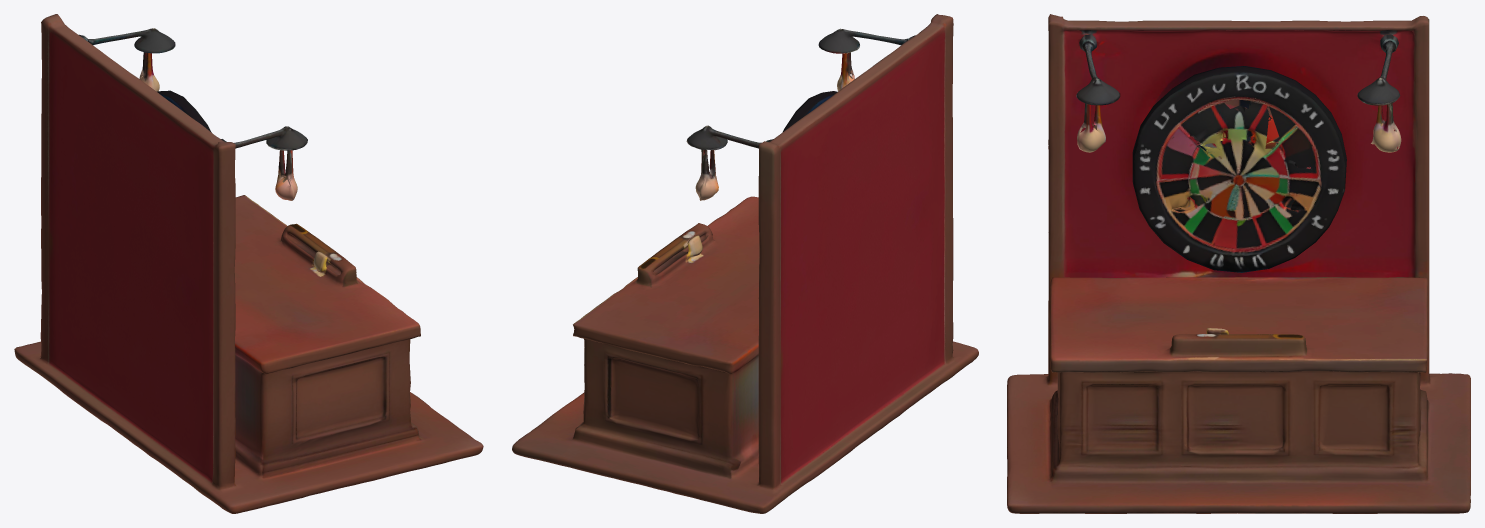
The model's file is Throwing Darts Booth.fbx.
3 renders of one model, left to right at view 1: azimuth 30°, elevation 25°; view 2: azimuth 150°, elevation 25°; view 3: azimuth 270°, elevation 25°, orthographic. The views are drawn at different scales.
Parts seen in each view (by area): view 1: tripo_node_7aed2070; view 2: tripo_node_7aed2070; view 3: tripo_node_7aed2070.
Boxes of the visible parts, <box> form: tripo_node_7aed2070: <box>14,14,483,513</box>; tripo_node_7aed2070: <box>512,14,978,513</box>; tripo_node_7aed2070: <box>1007,14,1470,513</box>.
Bounding box in the file's own units: 67.42 × 89.23 × 100.
1 material, 1 textured.
